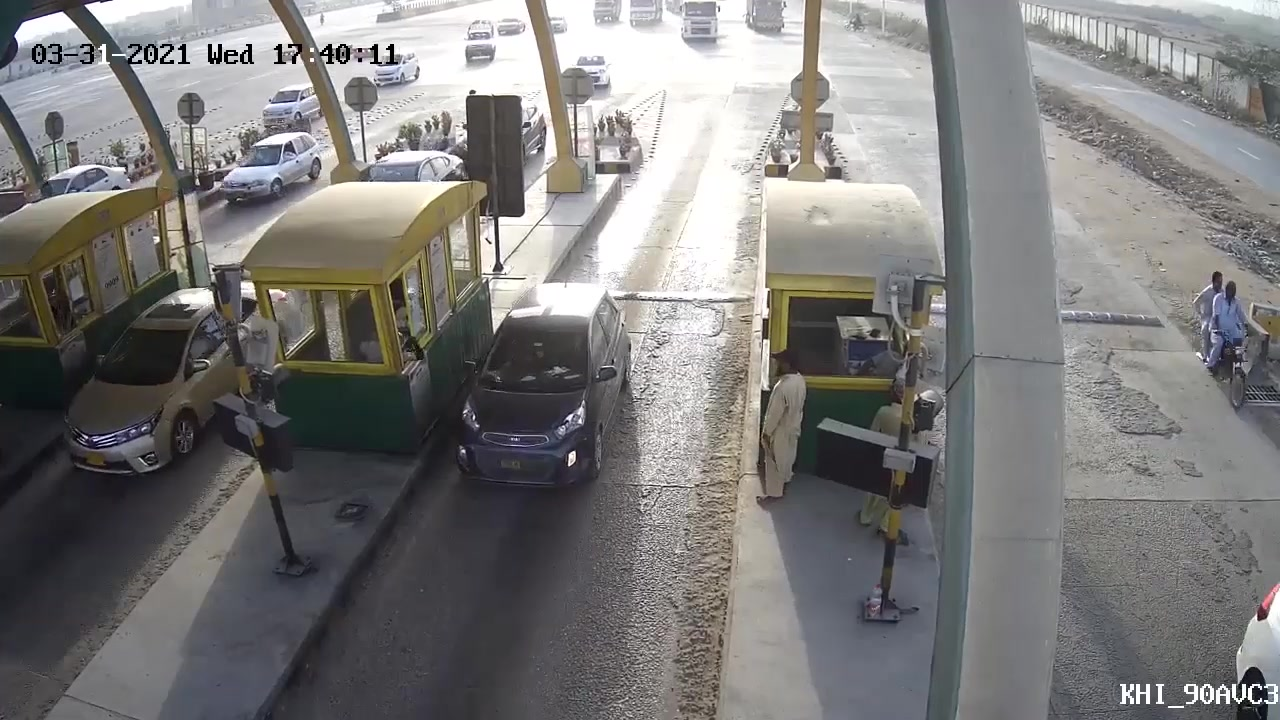F1: (439, 282, 638, 504)
